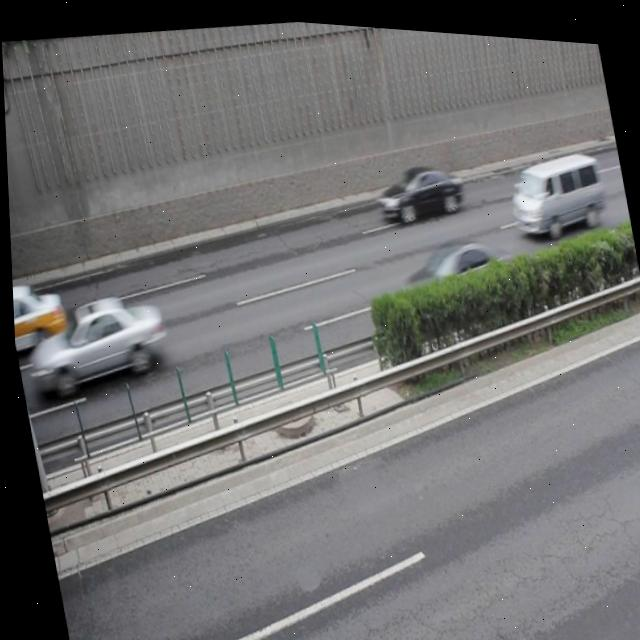car: (26, 281, 173, 400), (397, 225, 520, 316), (368, 150, 468, 224)
truck: (501, 138, 606, 234)
